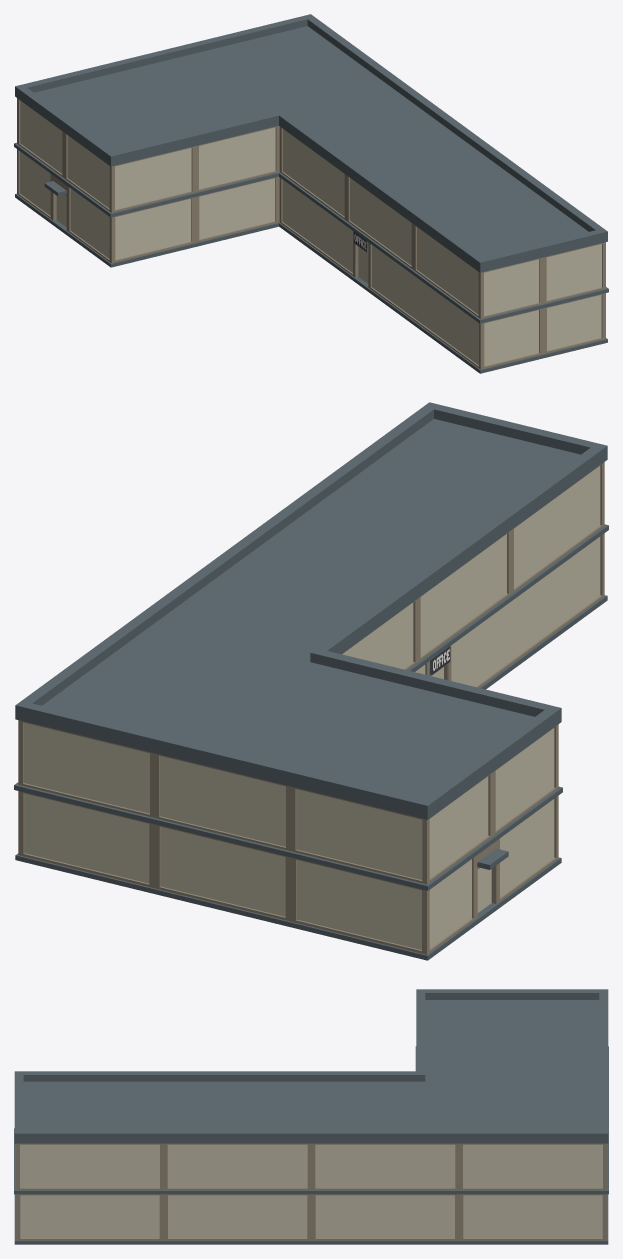
File: TechParkBuildingRightUp.fbx
3 renders of one model, top to bottom at view 1: azimuth 30°, elevation 25°; view 2: azimuth 150°, elevation 25°; view 3: azimuth 270°, elevation 25°, orthographic. The views are drawn at different scales.
Parts seen in each view (by area): view 1: TechParkBuildingRightUp; view 2: TechParkBuildingRightUp; view 3: TechParkBuildingRightUp.
Boxes of the visible parts, bbox=[...] form: TechParkBuildingRightUp: bbox=[14, 14, 608, 373]; TechParkBuildingRightUp: bbox=[14, 402, 608, 960]; TechParkBuildingRightUp: bbox=[14, 989, 608, 1244].
Bounding box in the file's own units: 47.26 × 16.64 × 80.2.
